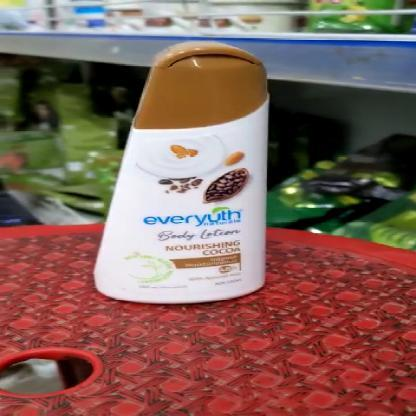Everyuth Naturals Body Lotion Nourishing Cocoa 200ml: (97, 42, 272, 304)
